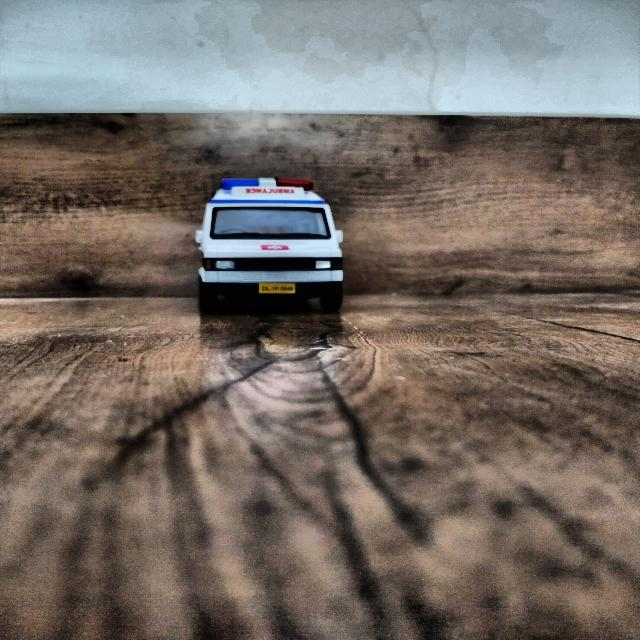Ambulance: (177, 172, 359, 324)
